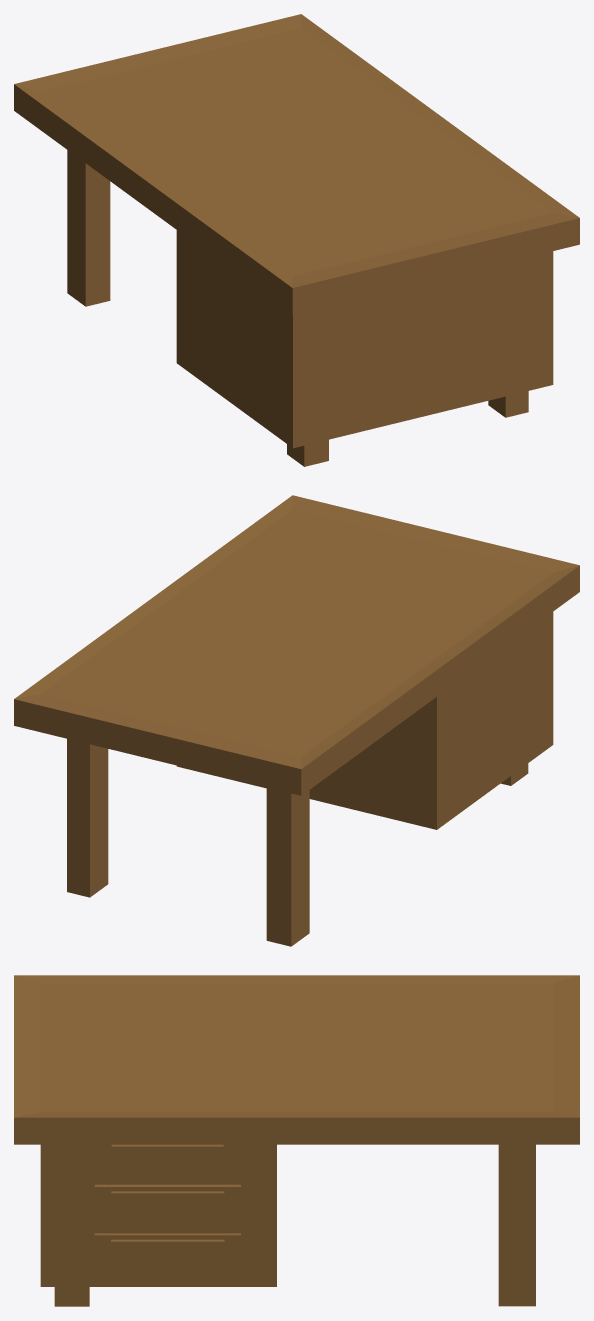
File: Desk.fbx
The picture shows the model from 3 angles, top to bottom: view 1: azimuth 30°, elevation 25°; view 2: azimuth 150°, elevation 25°; view 3: azimuth 270°, elevation 25°; orthographic projection.
Parts seen in each view (by area): view 1: pCube1; view 2: pCube1; view 3: pCube1.
Part boxes in pixels (<box>): pCube1: <box>14,14,579,466</box>; pCube1: <box>14,495,579,946</box>; pCube1: <box>14,975,579,1306</box>.
Bounding box in the file's own units: 9.33 × 6.25 × 15.67.
